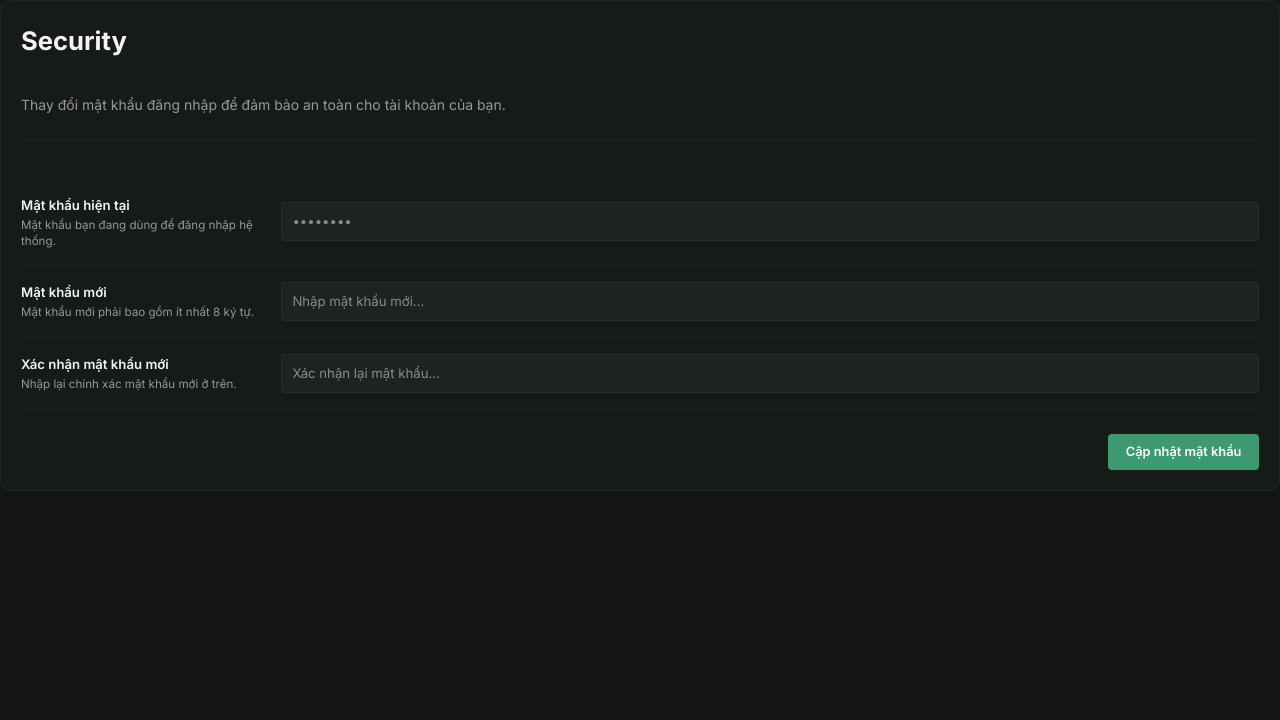
Test: ProfileSecurityTab — logic đổi mật khẩu (PR-008) › PR-028: confirm không khớp → fieldErrors.newPassword inline + focus, không gọi changePassword
Type "old-pass-1" into the password field with id "currentPassword". click: (770, 222)
box: x1=281 y1=202 x2=1259 y2=241
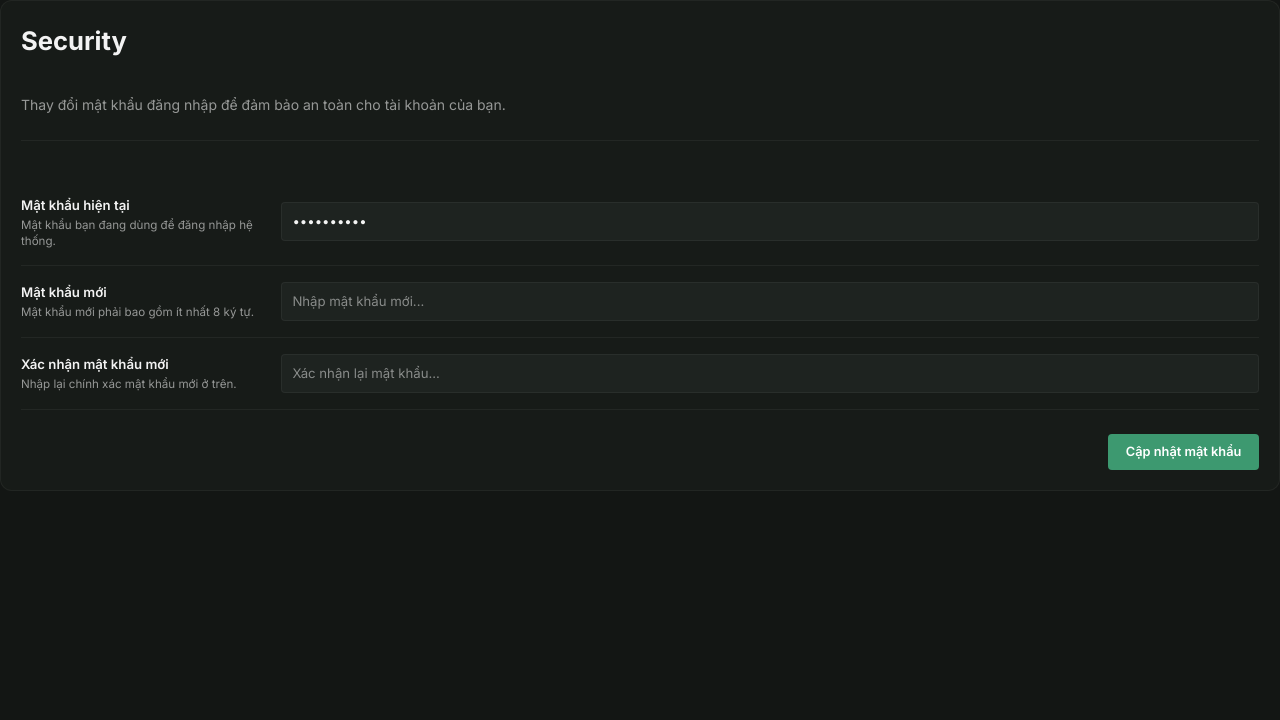
Type "newpass123" into the password field with id "newPassword". click: (770, 301)
box: x1=281 y1=282 x2=1259 y2=321
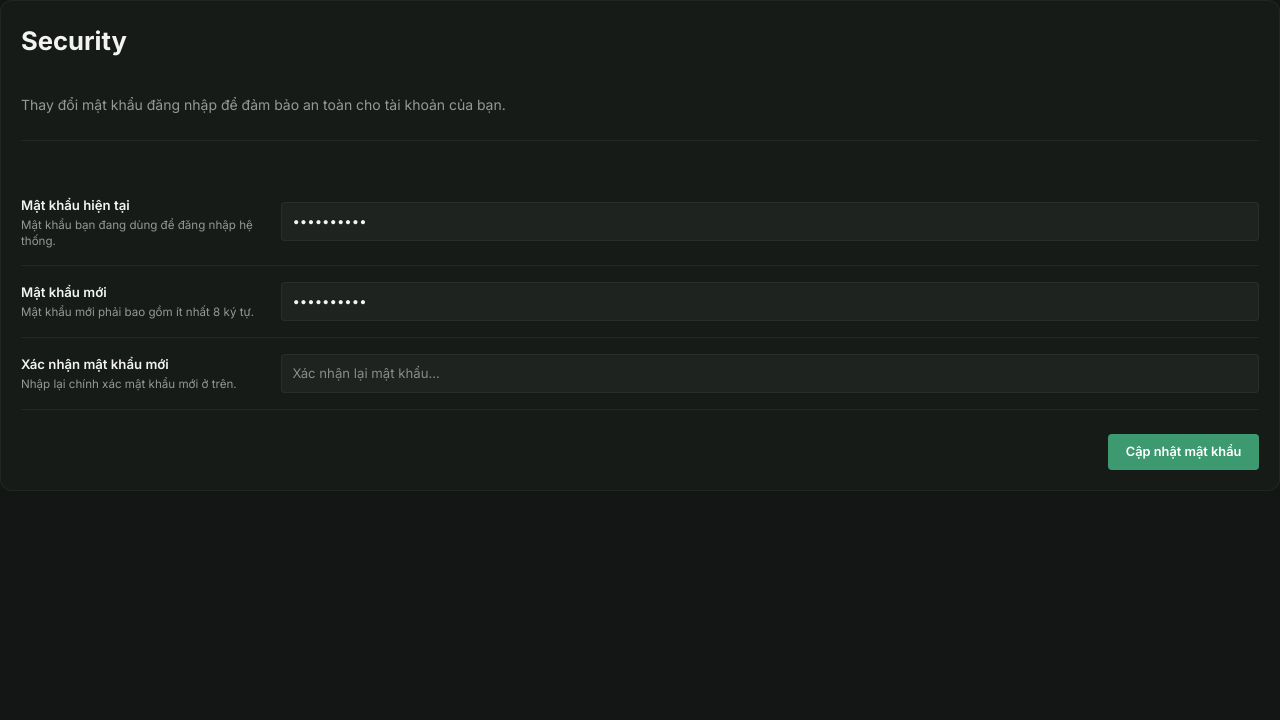
Type "different9" into the password field with id "confirmNewPassword". click: (770, 373)
box: x1=281 y1=354 x2=1259 y2=393
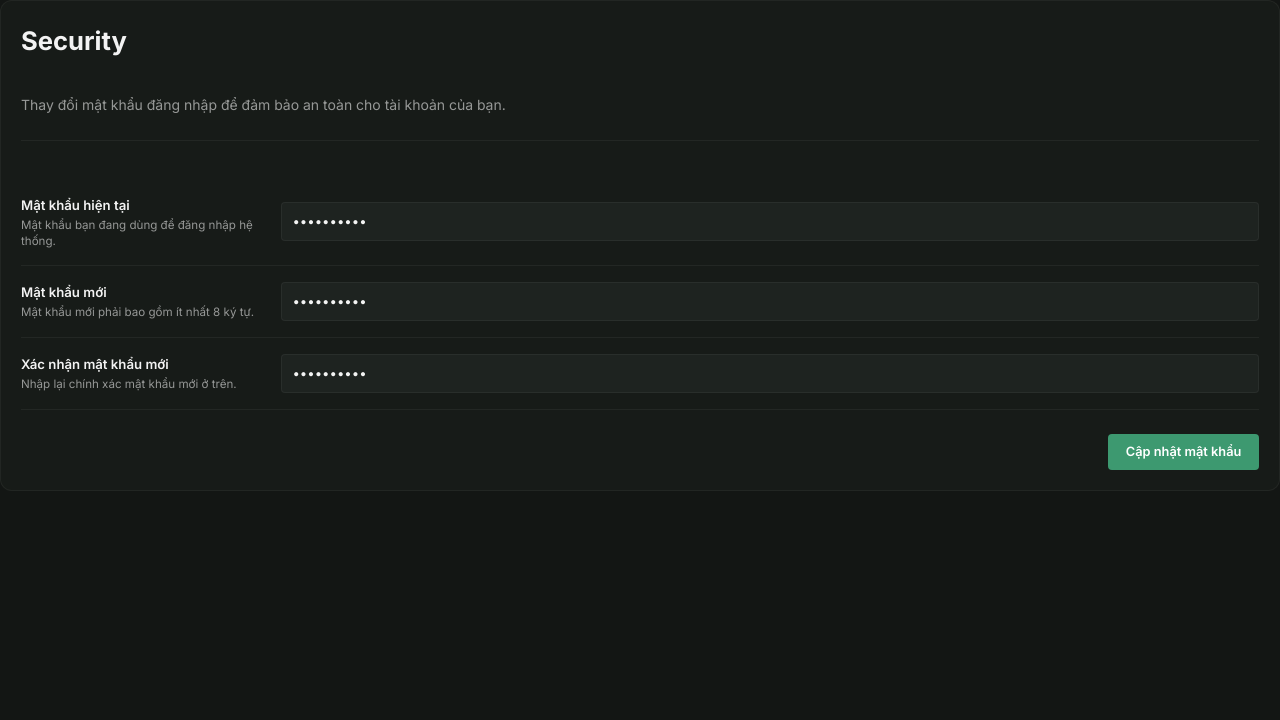
Submit the form, box x1=21 y1=195 x2=1259 y2=470
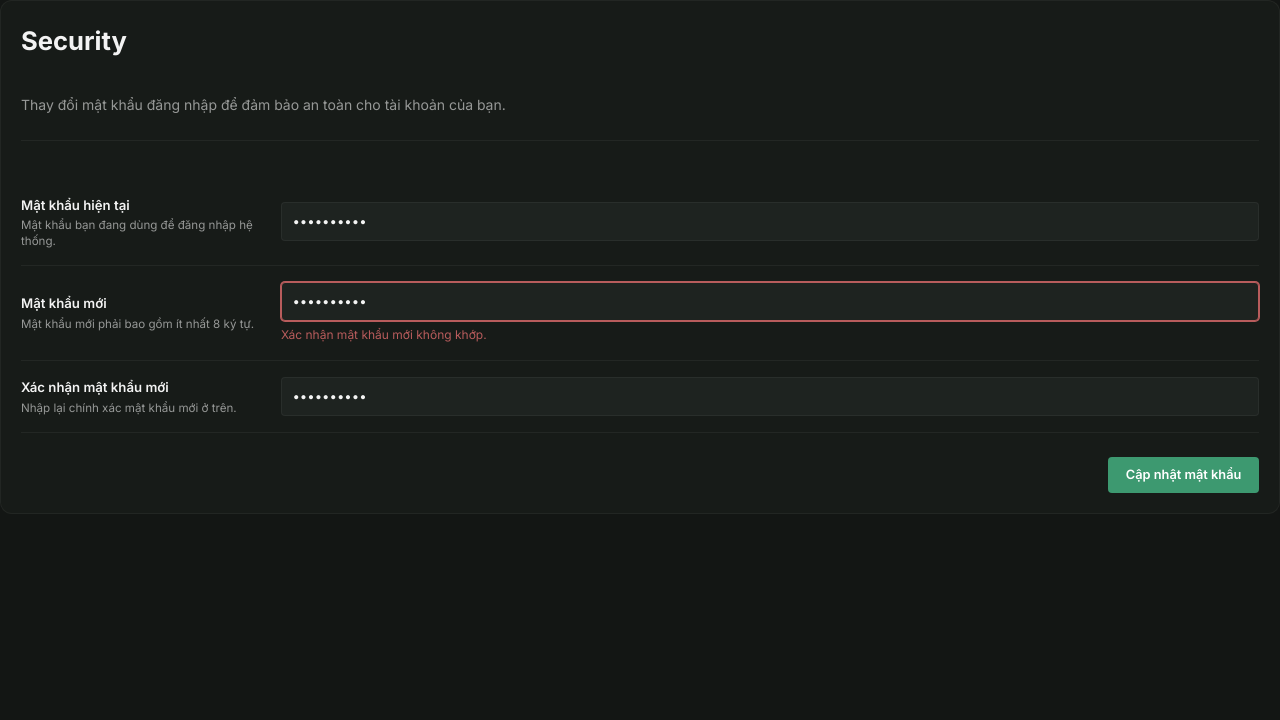
Check: the message with id "newPassword-error" reads "Xác nhận mật khẩu mới không khớp.", box x1=281 y1=327 x2=487 y2=342
